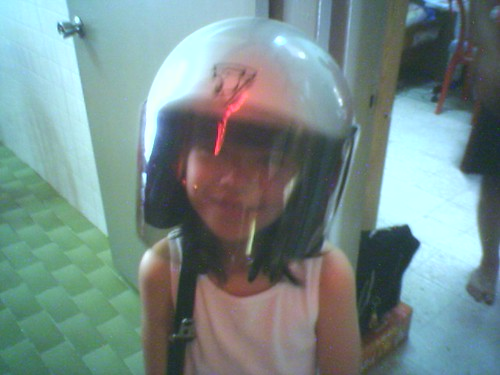helmet: (120, 18, 388, 266)
